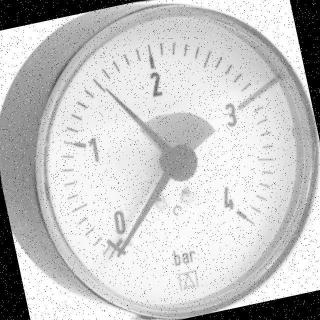gauge: (28, 0, 320, 320), (156, 140, 202, 185), (228, 192, 266, 242), (101, 229, 133, 259), (110, 242, 131, 263), (98, 81, 114, 97)
